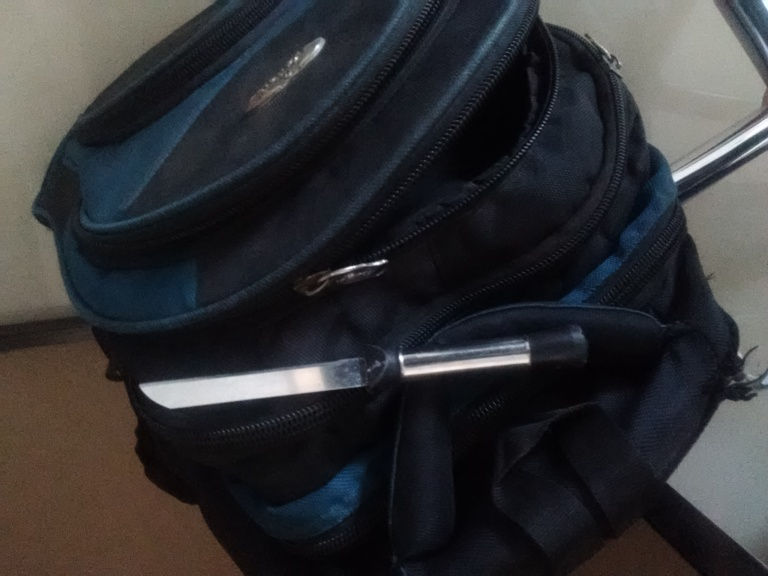knife: (134, 321, 591, 413)
